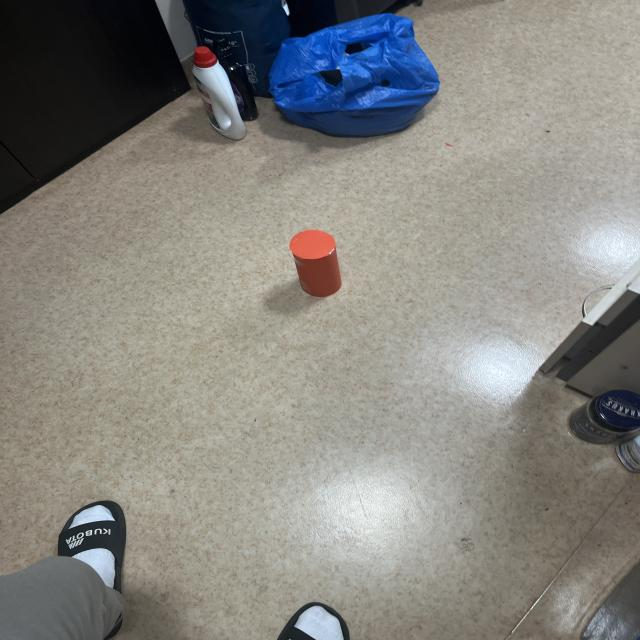przeszkoda: (289, 230, 341, 297)
